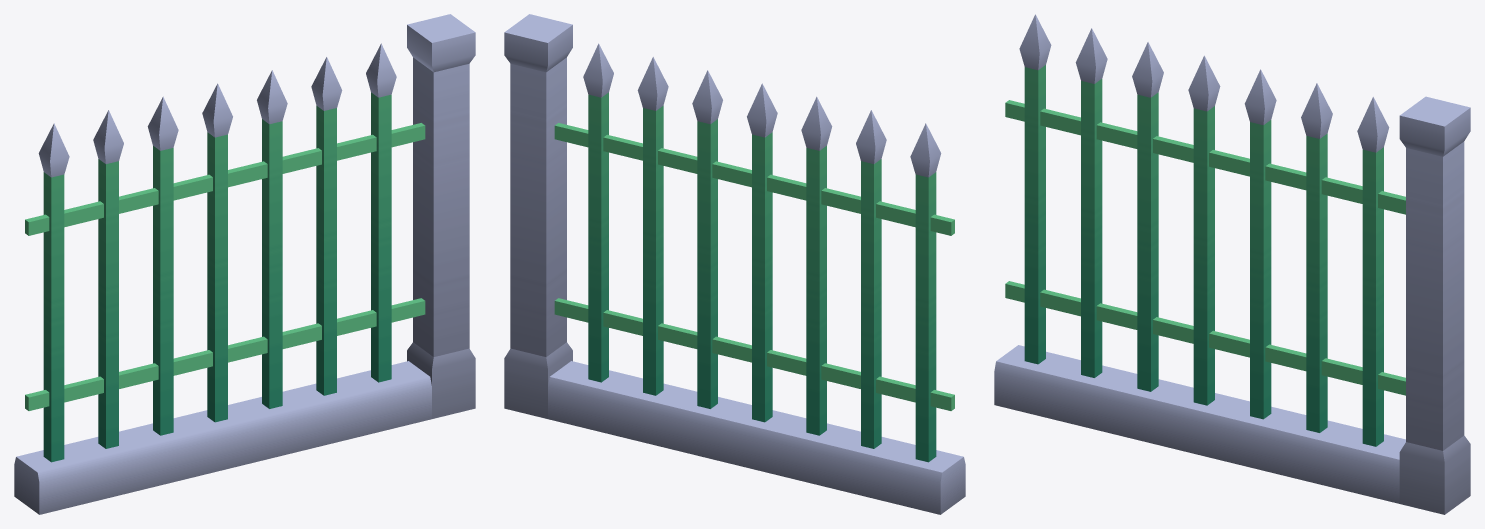
The model's file is iron-fence-border-column.glb.
3 views of the same model, side by side, from view 1: azimuth 30°, elevation 25°; view 2: azimuth 150°, elevation 25°; view 3: azimuth 330°, elevation 25° (orthographic). The views are drawn at different scales.
Visible parts, largest first — view 1: Asset3DLoader.sceneRoot; view 2: Asset3DLoader.sceneRoot; view 3: Asset3DLoader.sceneRoot.
Boxes of the visible parts, <box> form: Asset3DLoader.sceneRoot: <box>14,14,475,514</box>; Asset3DLoader.sceneRoot: <box>504,14,965,514</box>; Asset3DLoader.sceneRoot: <box>994,14,1470,514</box>.
Size of the model in its own units: 1 by 0.8239 by 0.1.
1 material, 1 textured.
